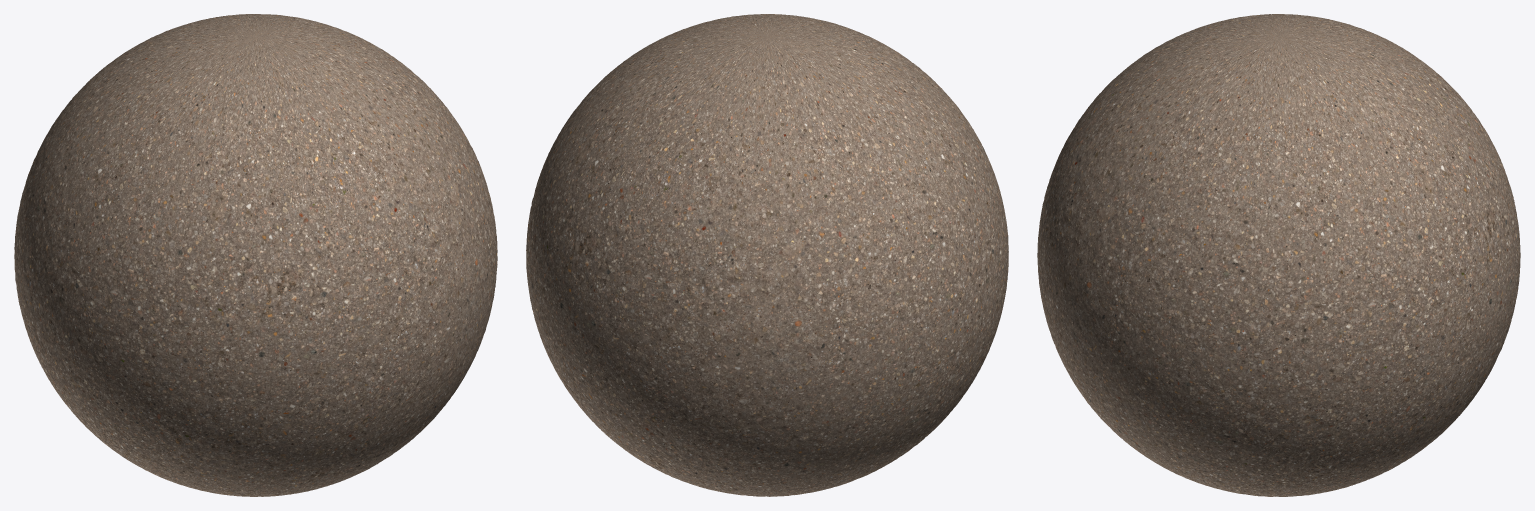
The model's file is asphalt_floor_4k.gltf.
The picture shows the model from 3 angles, left to right: view 1: azimuth 30°, elevation 25°; view 2: azimuth 150°, elevation 25°; view 3: azimuth 270°, elevation 25°; orthographic projection.
Parts seen in each view (by area): view 1: sphere_gltf; view 2: sphere_gltf; view 3: sphere_gltf.
Boxes of the visible parts, bbox=[...] form: sphere_gltf: bbox=[14, 14, 497, 496]; sphere_gltf: bbox=[526, 14, 1008, 496]; sphere_gltf: bbox=[1037, 14, 1520, 496].
Bounding box in the file's own units: 2.36 × 2.36 × 2.36.
1 material, 1 textured.
